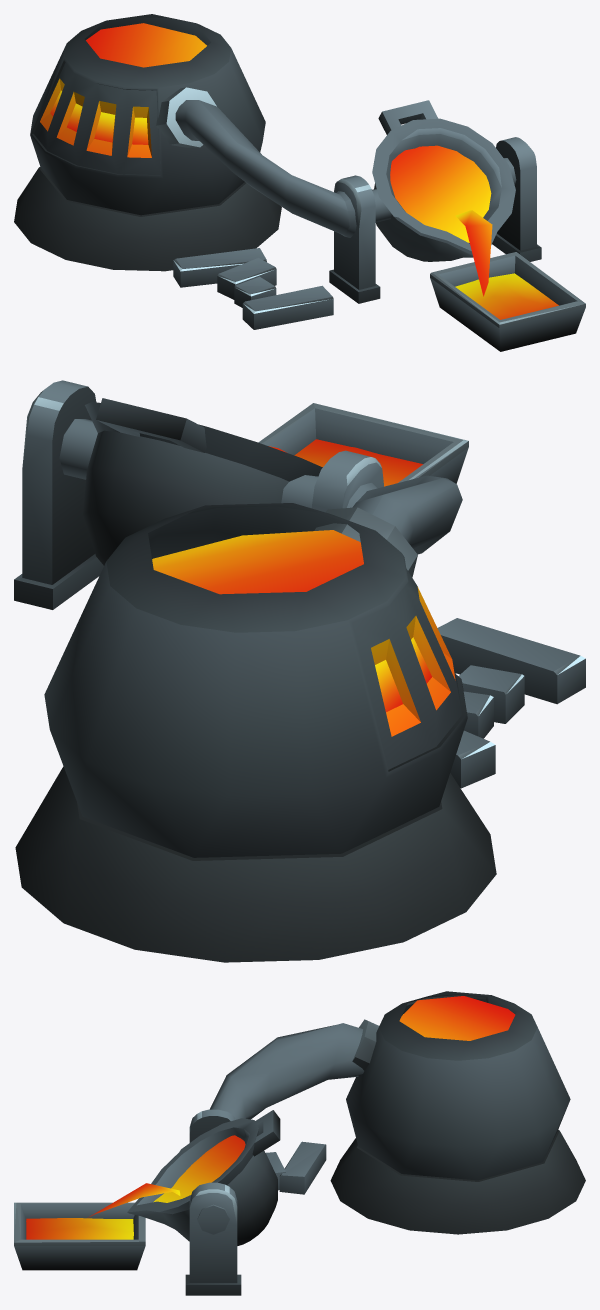
The model's file is smelter_lvl2.glb.
3 renders of one model, top to bottom at view 1: azimuth 30°, elevation 25°; view 2: azimuth 150°, elevation 25°; view 3: azimuth 270°, elevation 25°, orthographic. The views are drawn at different scales.
Visible parts, largest first — view 1: smelter_base.003, smelter_lvl2, smelter_marmite.001, smelter_pipe.004, smelter_wagon.001, smelter_lava.003, smelter_Cube.020, smelter_Circle.001, smelter_Cube.014, smelter_Cube.004, smelter_lava.005, smelter_Cube.019 (+6 smaller); view 2: smelter_base.003, smelter_lvl2, smelter_marmite.001, smelter_Cube.014, smelter_Circle.001, smelter_wagon.001, smelter_Cube.004, smelter_pipe.004, smelter_Cube.017, smelter_Cube.020, smelter_Cylinder.001, smelter_Cube.005 (+4 smaller); view 3: smelter_base.003, smelter_lvl2, smelter_pipe.004, smelter_marmite.001, smelter_wagon.001, smelter_Cube.014, smelter_Circle.001, smelter_lava.005, smelter_lava.003, smelter_Cube.019, smelter_Cube.017, smelter_Cube.020 (+3 smaller).
Part boxes in pixels (bbox=[...]): smelter_base.003: bbox=[30, 14, 265, 215]; smelter_lvl2: bbox=[14, 167, 281, 271]; smelter_marmite.001: bbox=[372, 118, 515, 261]; smelter_pipe.004: bbox=[175, 100, 356, 237]; smelter_wagon.001: bbox=[430, 252, 585, 351]; smelter_lava.003: bbox=[390, 145, 491, 242]; smelter_Cube.020: bbox=[329, 175, 380, 303]; smelter_Circle.001: bbox=[86, 23, 206, 67]; smelter_Cube.014: bbox=[492, 137, 541, 261]; smelter_Cube.004: bbox=[242, 285, 333, 329]; smelter_lava.005: bbox=[455, 273, 558, 319]; smelter_Cube.019: bbox=[173, 248, 266, 287]; smelter_base.003: bbox=[44, 503, 467, 857]; smelter_lvl2: bbox=[15, 766, 496, 962]; smelter_marmite.001: bbox=[83, 402, 322, 565]; smelter_Cube.014: bbox=[14, 380, 103, 609]; smelter_Circle.001: bbox=[152, 530, 363, 594]; smelter_wagon.001: bbox=[258, 403, 468, 483]; smelter_Cube.004: bbox=[437, 618, 585, 704]; smelter_pipe.004: bbox=[347, 475, 462, 554]; smelter_Cube.017: bbox=[96, 398, 206, 452]; smelter_Cube.020: bbox=[312, 450, 383, 512]; smelter_Cylinder.001: bbox=[59, 419, 317, 508]; smelter_Cube.005: bbox=[458, 665, 524, 723]; smelter_base.003: bbox=[346, 991, 570, 1180]; smelter_lvl2: bbox=[330, 1129, 585, 1234]; smelter_pipe.004: bbox=[209, 1023, 364, 1119]; smelter_marmite.001: bbox=[127, 1118, 277, 1245]; smelter_wagon.001: bbox=[14, 1202, 145, 1270]; smelter_Cube.014: bbox=[185, 1182, 241, 1295]; smelter_Circle.001: bbox=[399, 996, 515, 1040]; smelter_lava.005: bbox=[26, 1218, 133, 1239]; smelter_lava.003: bbox=[153, 1135, 245, 1202]; smelter_Cube.019: bbox=[279, 1141, 326, 1194]; smelter_Cube.017: bbox=[252, 1110, 280, 1156]; smelter_Cube.020: bbox=[189, 1109, 235, 1142].
Bounding box in the file's own units: 2.21 × 1 × 3.16.
Materials: 2 (2 with a texture image).
